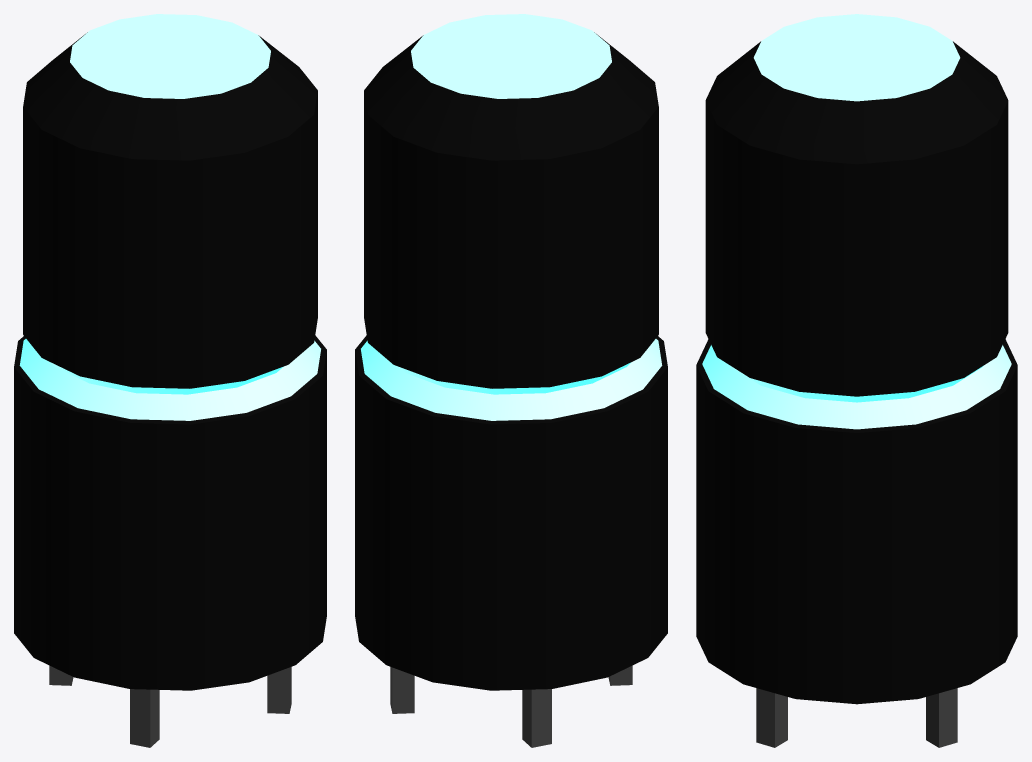
Rendered from Battery.fbx.
3 views of the same model, side by side, from view 1: azimuth 30°, elevation 25°; view 2: azimuth 150°, elevation 25°; view 3: azimuth 270°, elevation 25° (orthographic).
Parts seen in each view (by area): view 1: Cylinder; view 2: Cylinder; view 3: Cylinder.
Part boxes in pixels (x1,y1,x2,y2): Cylinder: (14, 14, 326, 747); Cylinder: (355, 14, 667, 747); Cylinder: (696, 14, 1017, 747).
Bounding box in the file's own units: 83.58 × 186 × 83.58.
